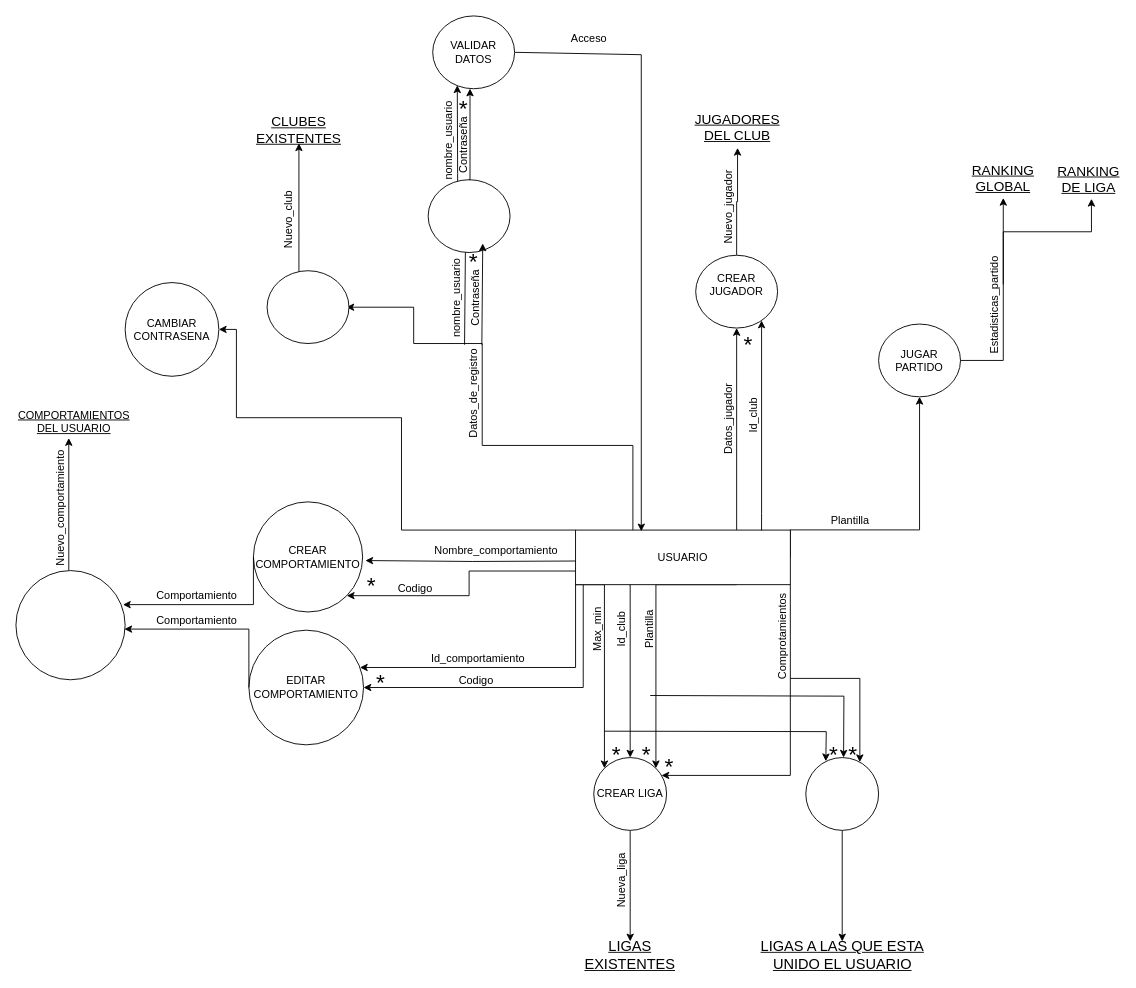
The diagram is 1136 pixels wide and 988 high, and some of its shapes have lost their labels. The shapes that lost their labels are listed below. From the top down, each one's centre as x and y in pixels, then its label:
At [468,216]: "INICIAR SESION".
At [307,307]: "CREAR CLUB".
At [70,625]: "VALIDAR COMPORTAMIENTO".
At [842,793]: "UNIRSE A LIGA".
